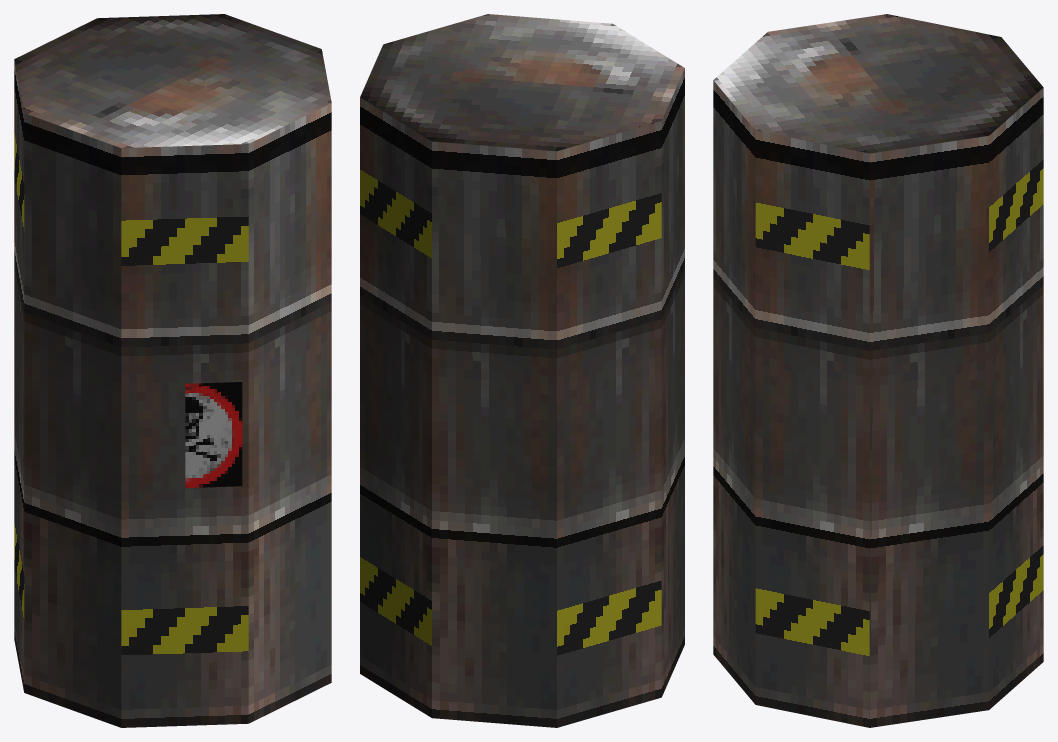
Rendered from primary_098.glb.
The picture shows the model from 3 angles, left to right: view 1: azimuth 30°, elevation 25°; view 2: azimuth 150°, elevation 25°; view 3: azimuth 270°, elevation 25°; orthographic projection.
Parts seen in each view (by area): view 1: Object; view 2: Object; view 3: Object.
Boxes of the visible parts, x1,y1,x2,y2 form: Object: [14, 14, 331, 727]; Object: [360, 14, 684, 727]; Object: [713, 14, 1043, 727].
Size of the model in its own units: 1.56 by 2.99 by 1.56.
9 materials, 9 textured.
